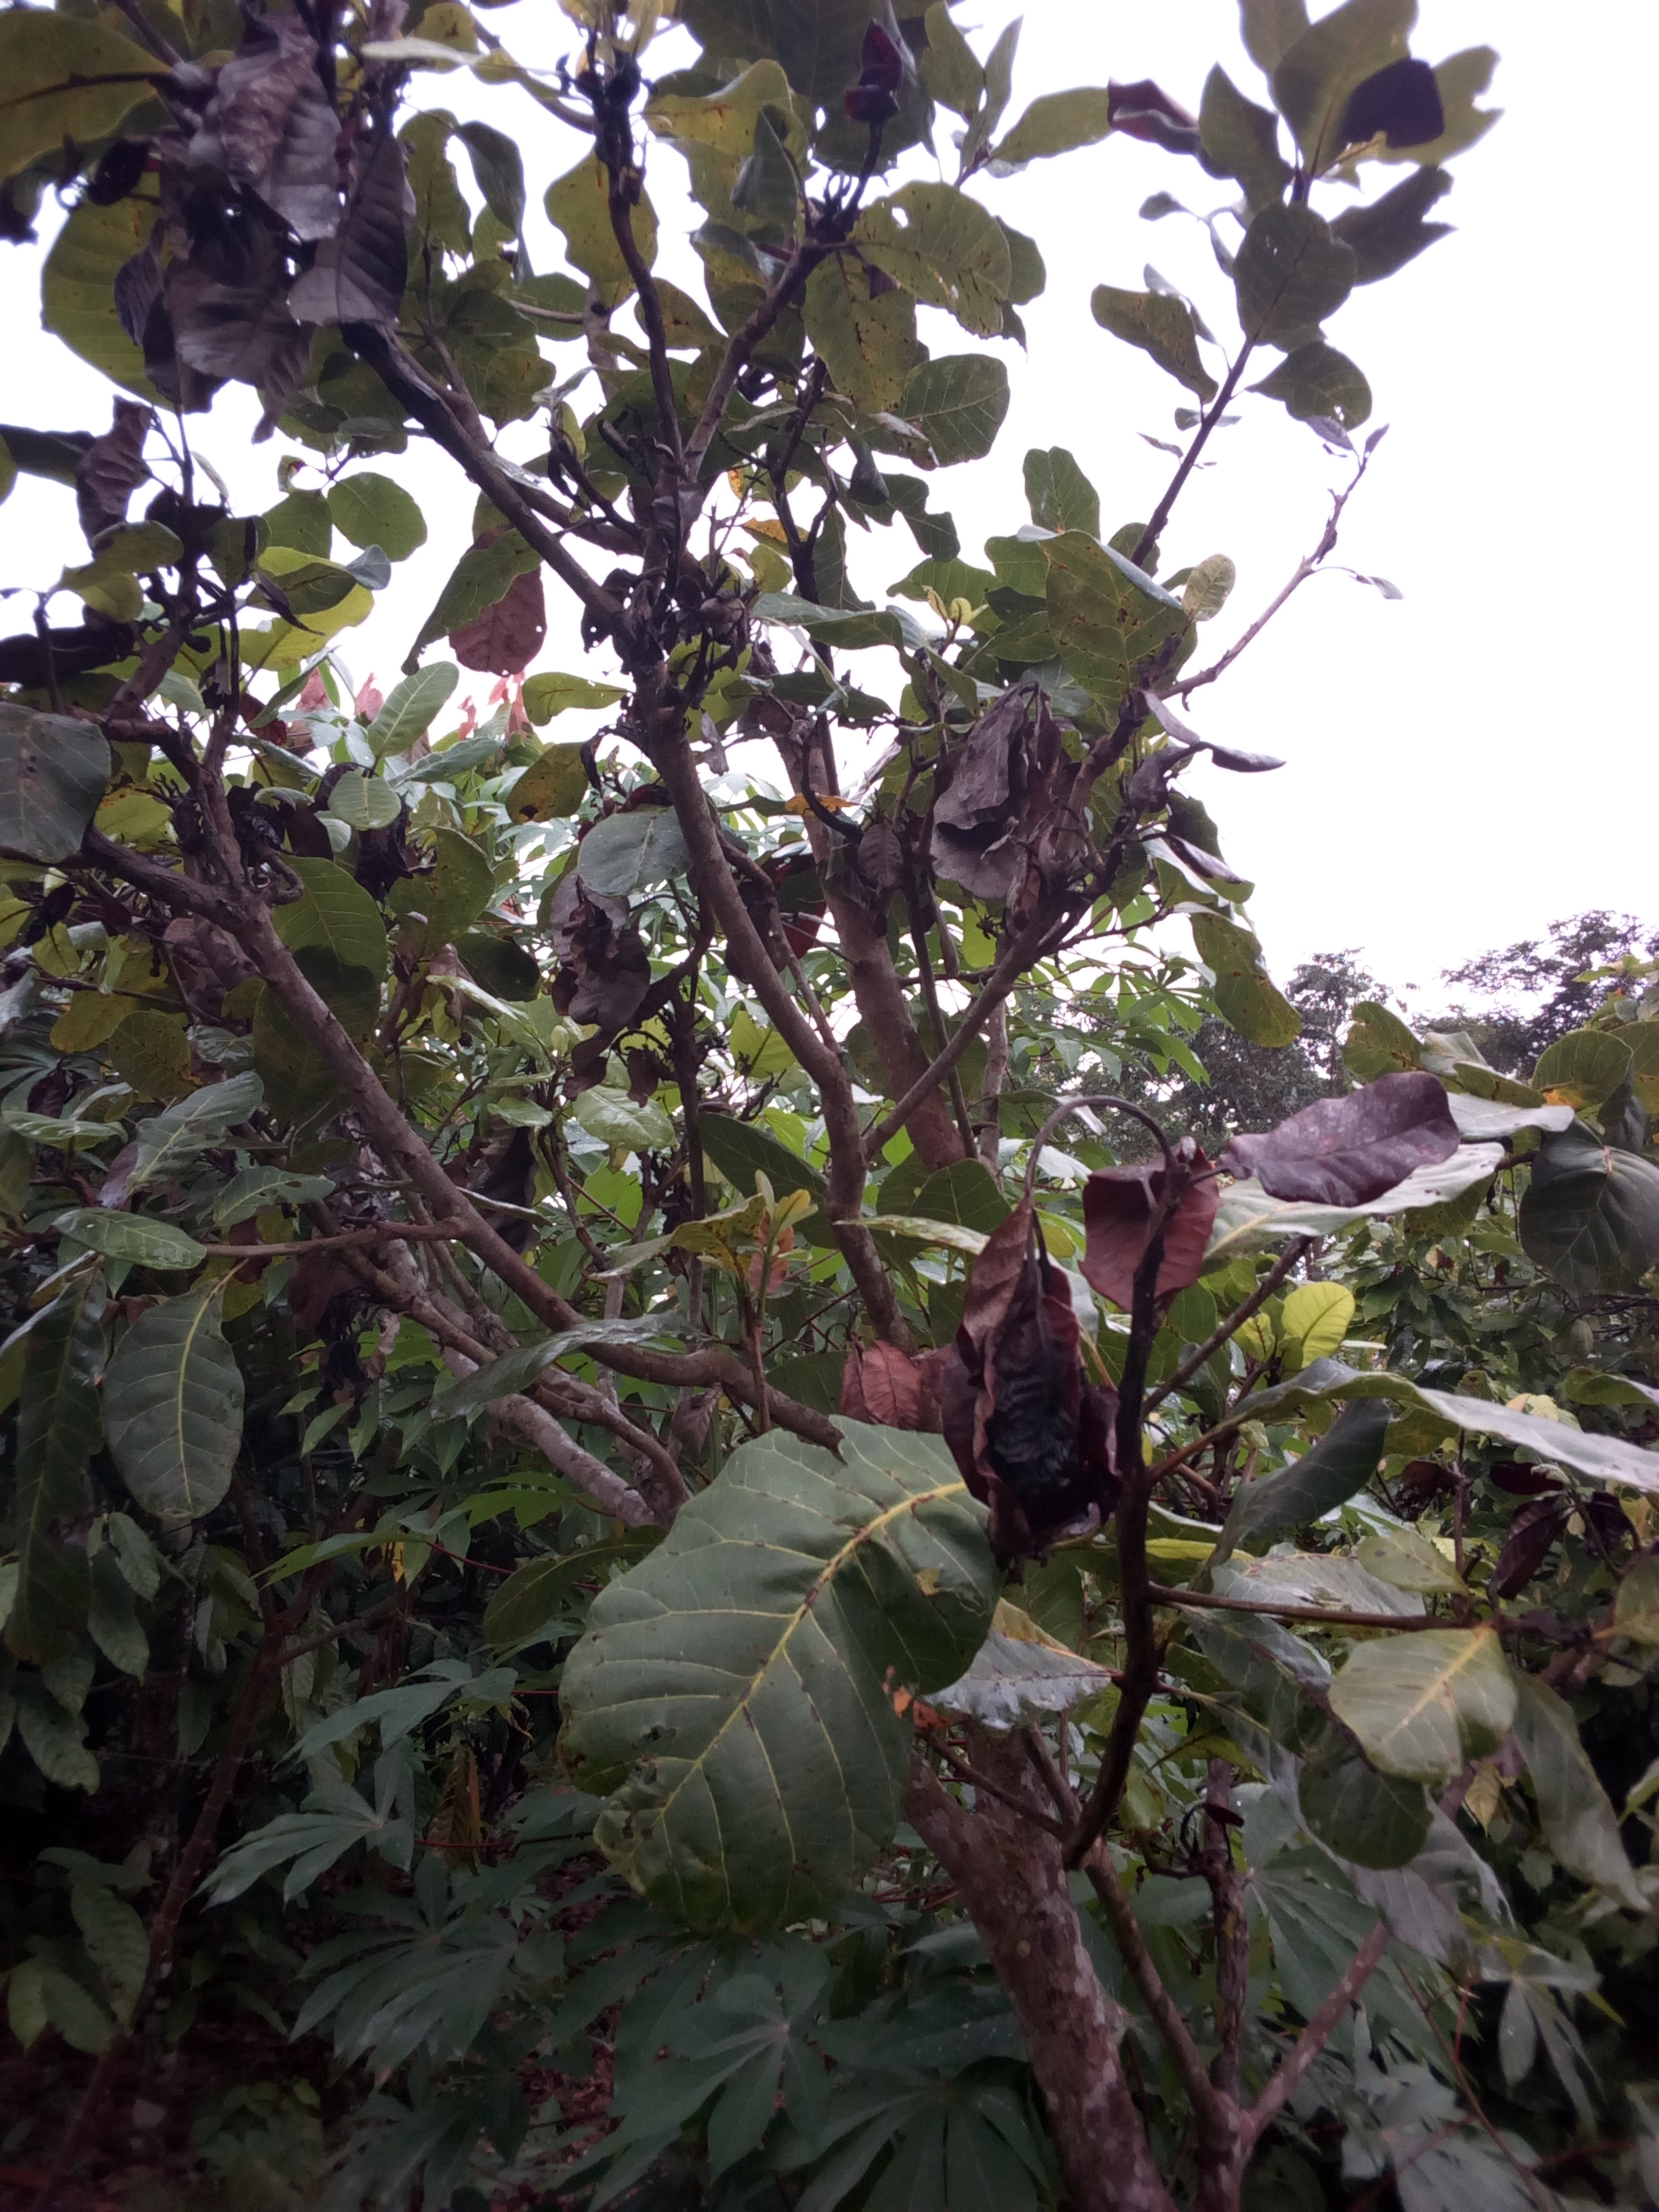Dessèchement des bourgeons: (591, 503, 838, 798), (945, 700, 1188, 941), (936, 1169, 1079, 1538), (568, 52, 667, 228)
